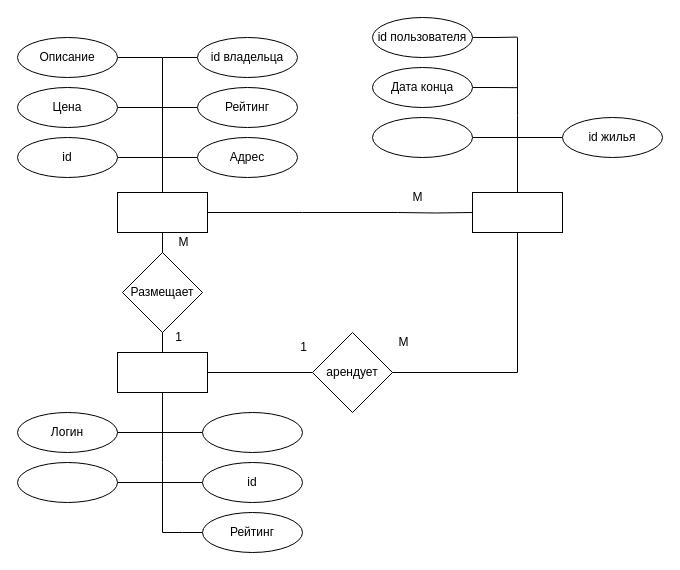
This 680x570 diagram has some shape labels left out. Each missing label, with the centre of its shape:
"Аренда" belongs at (x=517, y=212).
"Дата начала" belongs at (x=422, y=137).
"Объявление" belongs at (x=162, y=212).
"Пароль" belongs at (x=67, y=482).
"Пользователь" belongs at (x=162, y=372).
"Права доступа" belongs at (x=252, y=432).
